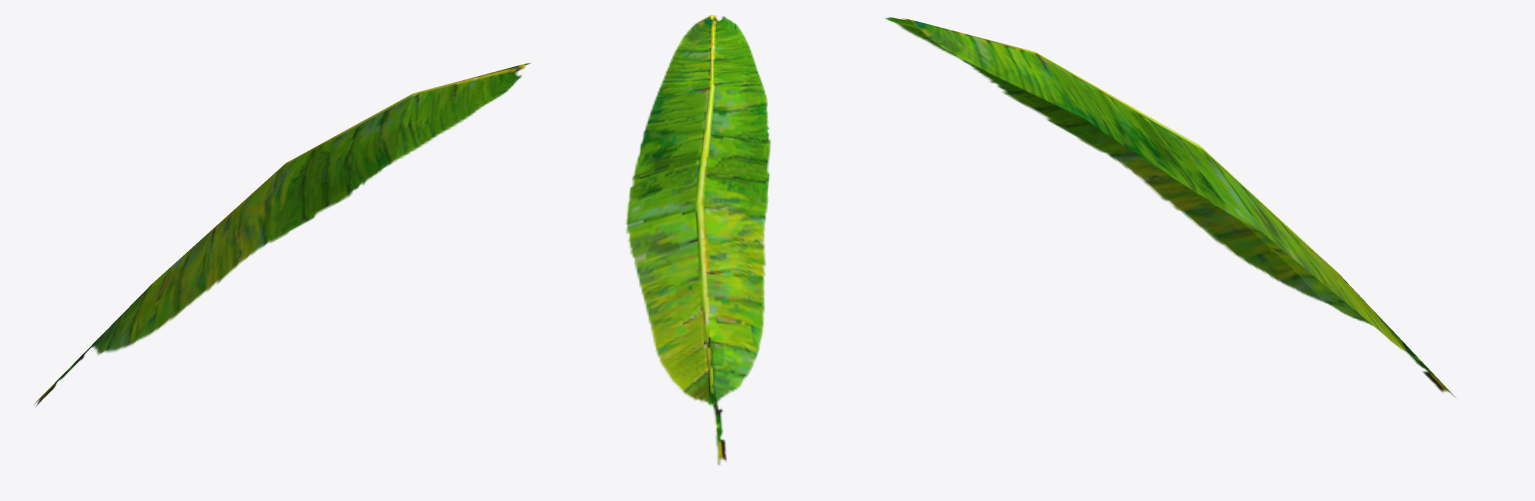
The model's file is BananaPlant_2_Leaf_1.gltf.
The picture shows the model from 3 angles, left to right: view 1: azimuth 30°, elevation 25°; view 2: azimuth 150°, elevation 25°; view 3: azimuth 270°, elevation 25°; orthographic projection. The views are drawn at different scales.
Visible parts, largest first — view 1: BananaPlant_2_Leaf_1; view 2: BananaPlant_2_Leaf_1; view 3: BananaPlant_2_Leaf_1.
Boxes of the visible parts, x1,y1,x2,y2 form: BananaPlant_2_Leaf_1: (35, 63, 530, 405); BananaPlant_2_Leaf_1: (626, 15, 770, 464); BananaPlant_2_Leaf_1: (885, 17, 1455, 397).
Size of the model in its own units: 0.9477 by 1.07 by 1.22.
Materials: 1 (1 with a texture image).
